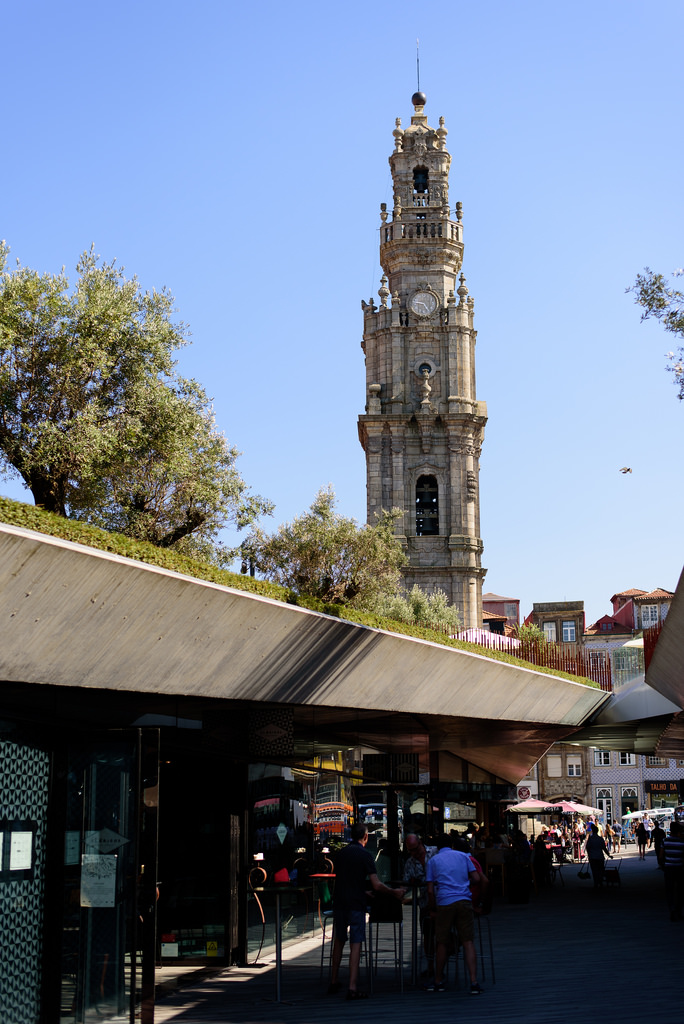clerigos: (357, 39, 483, 633)
